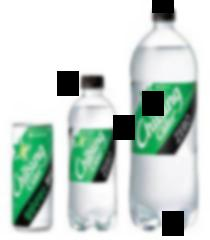chilsungcider_zero: (10, 117, 58, 233)
